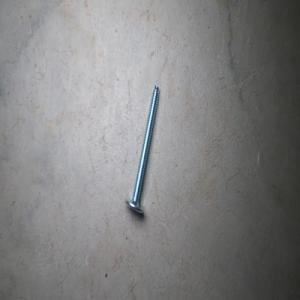Bolt: (123, 84, 159, 214)
